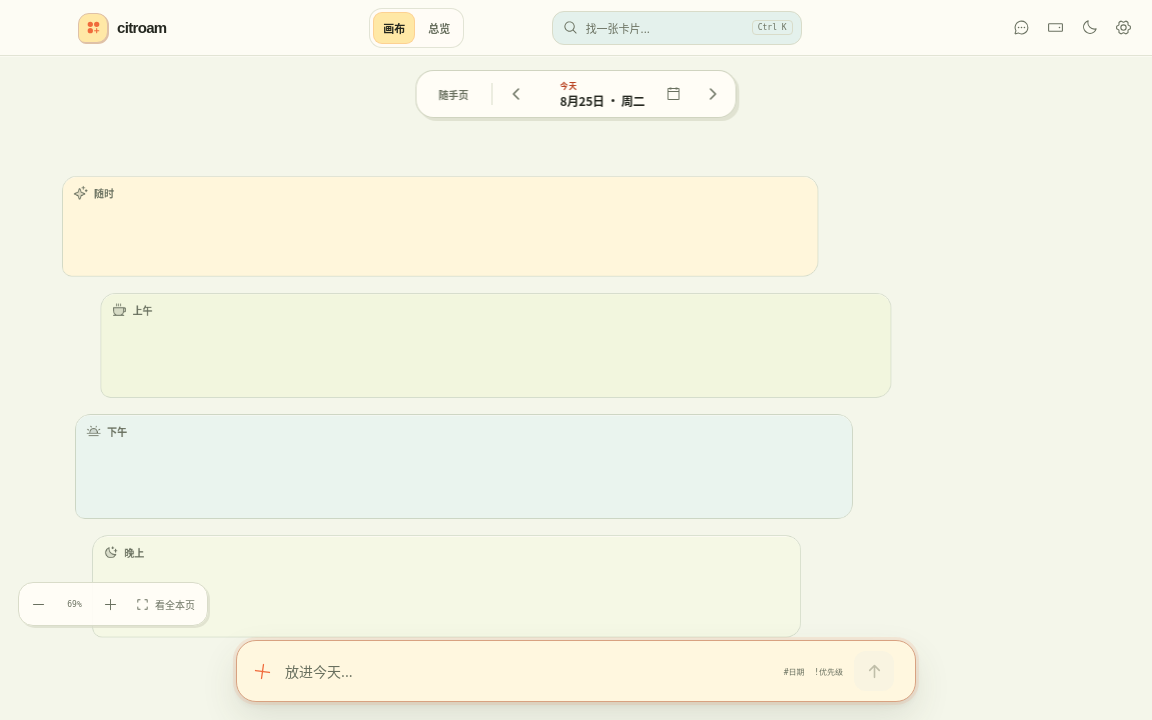
Test: date page canvas › disables look-whole-page when the loose page has nothing to fit
The image size is (1152, 720).
Click the button named "打开随手页" at (454, 94), box [422,76,486,112]
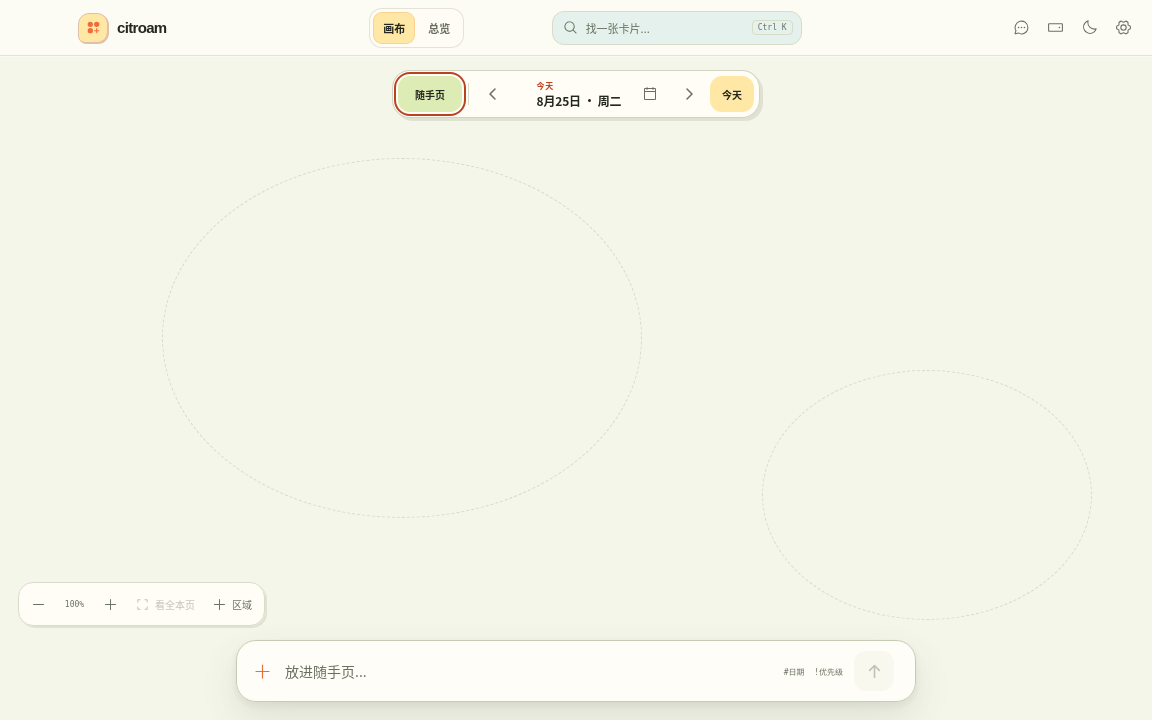
Result: the button "看全本页" is disabled at [128,588,202,620]
